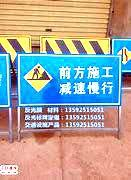sign: (18, 53, 120, 105)
